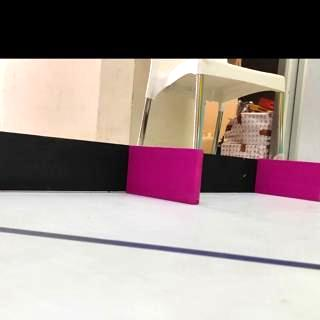xparking: (132, 150, 200, 198), (261, 162, 320, 194)
